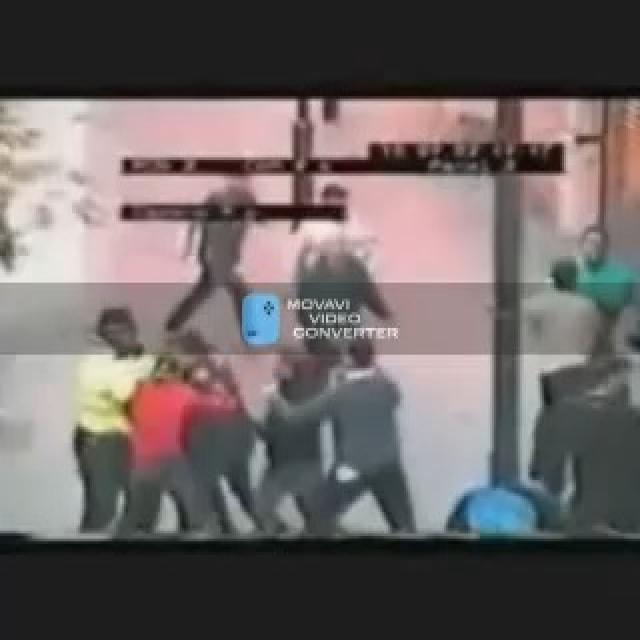non-voilence: (0, 93, 638, 544), (240, 290, 280, 346)
